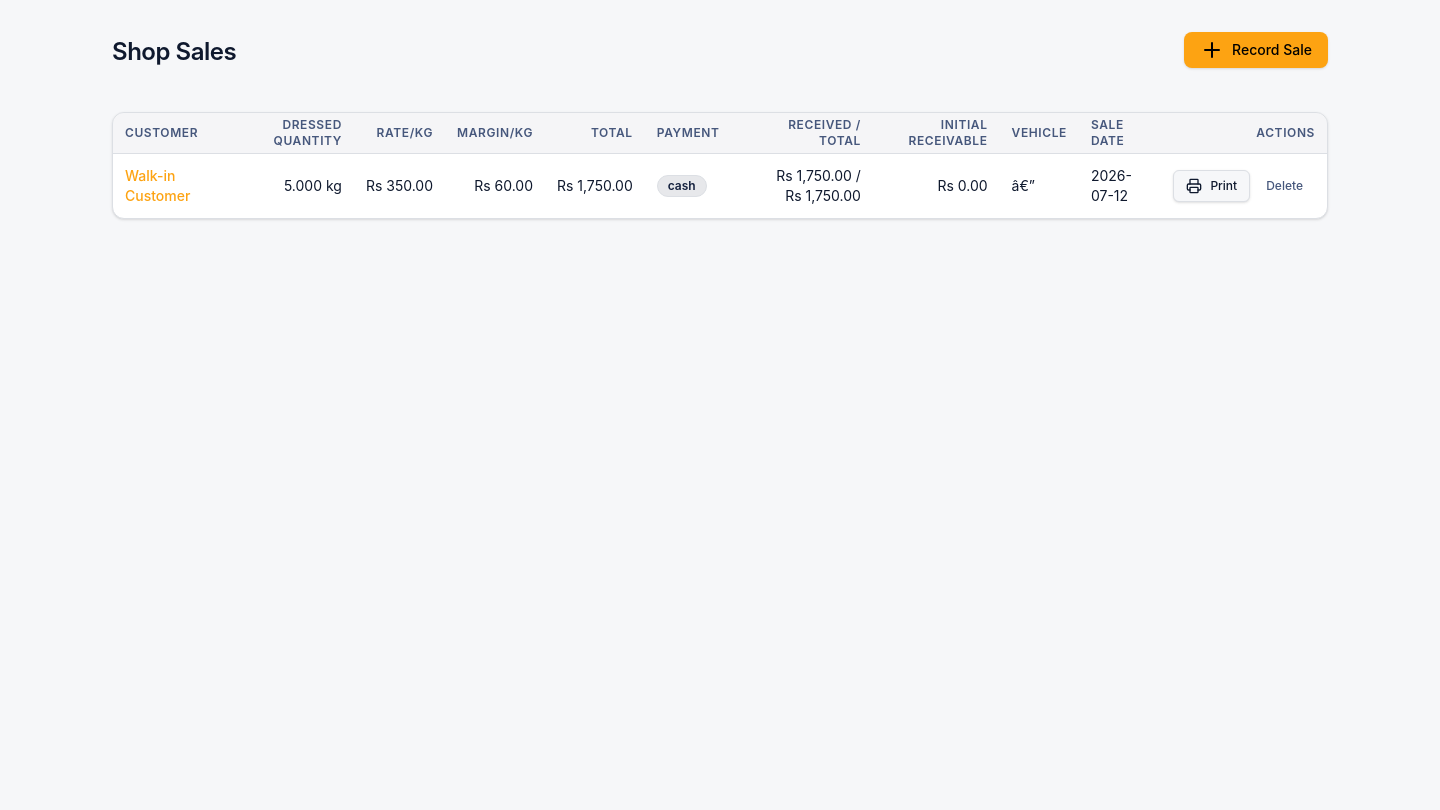
ShopSalesPage › shows insufficient-stock error when dressed quantity exceeds available
Click the button "Record Sale": coordinates (1256, 50) [1184,32,1328,68]
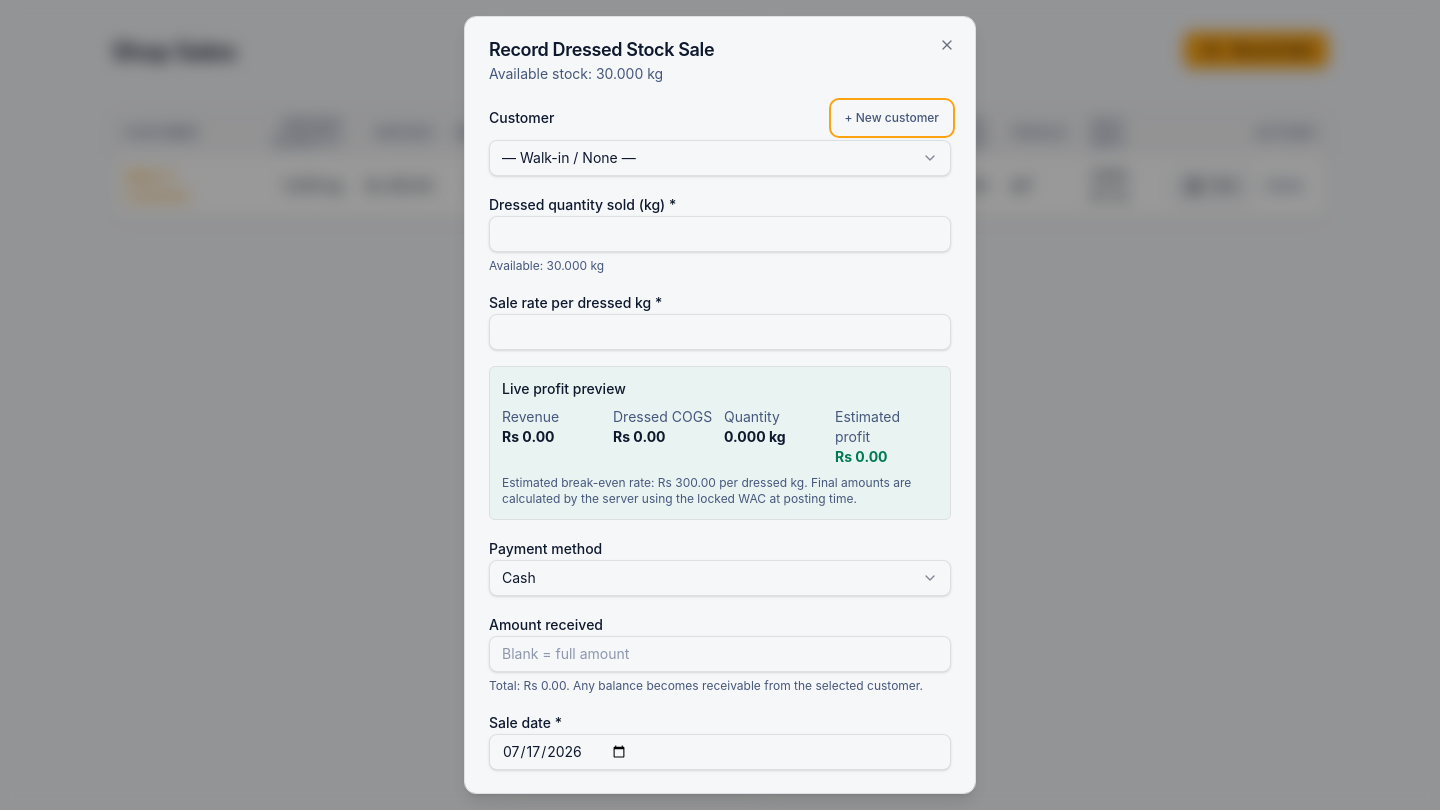
In the number field labelled "Dressed quantity sold (kg) *": coordinates (720, 234) [489,216,951,252], type "999"
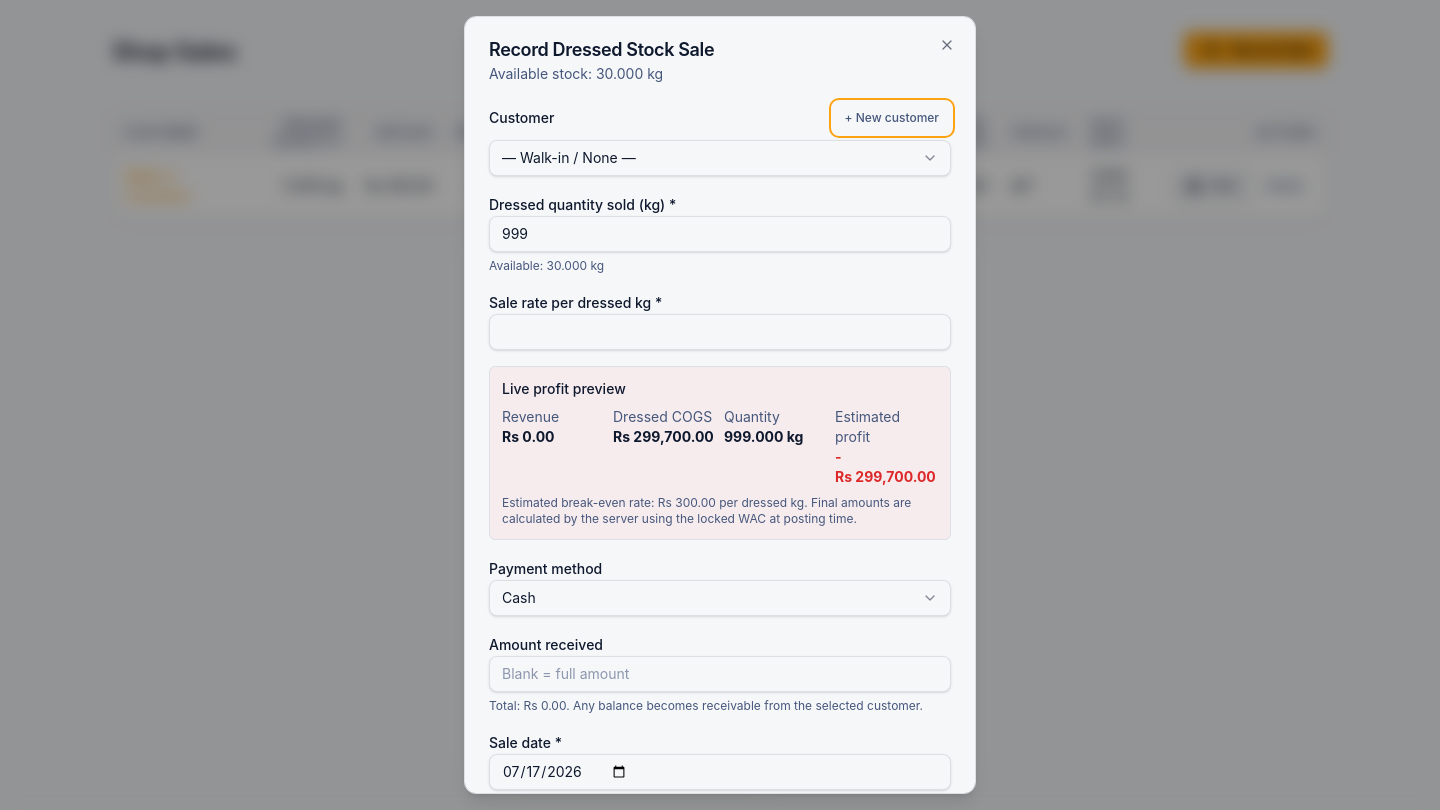
In the number field labelled "Sale rate per dressed kg *": coordinates (720, 332) [489,314,951,350], type "300"
(page scrolled)
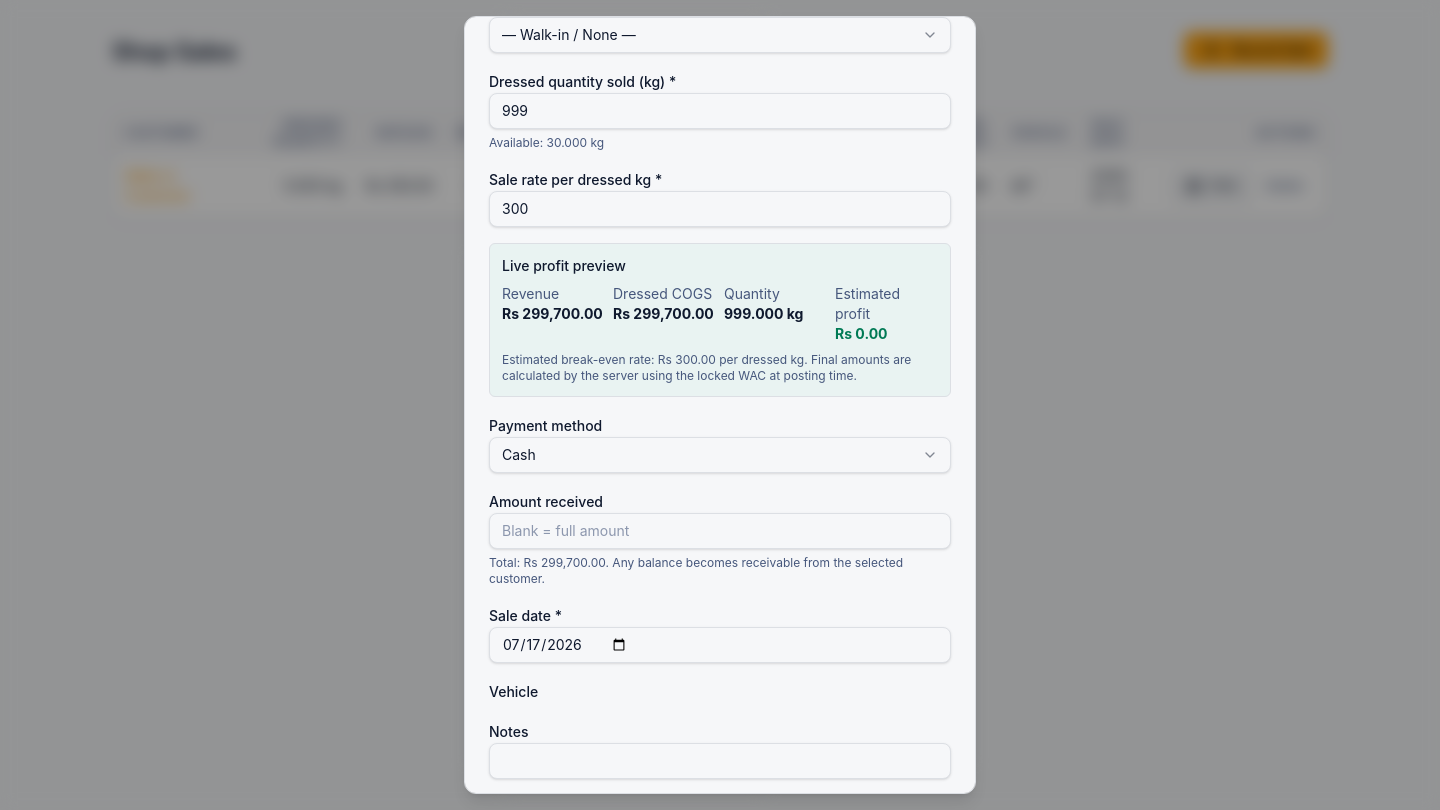
Submit the form labelled "Dressed quantity"
(page scrolled)
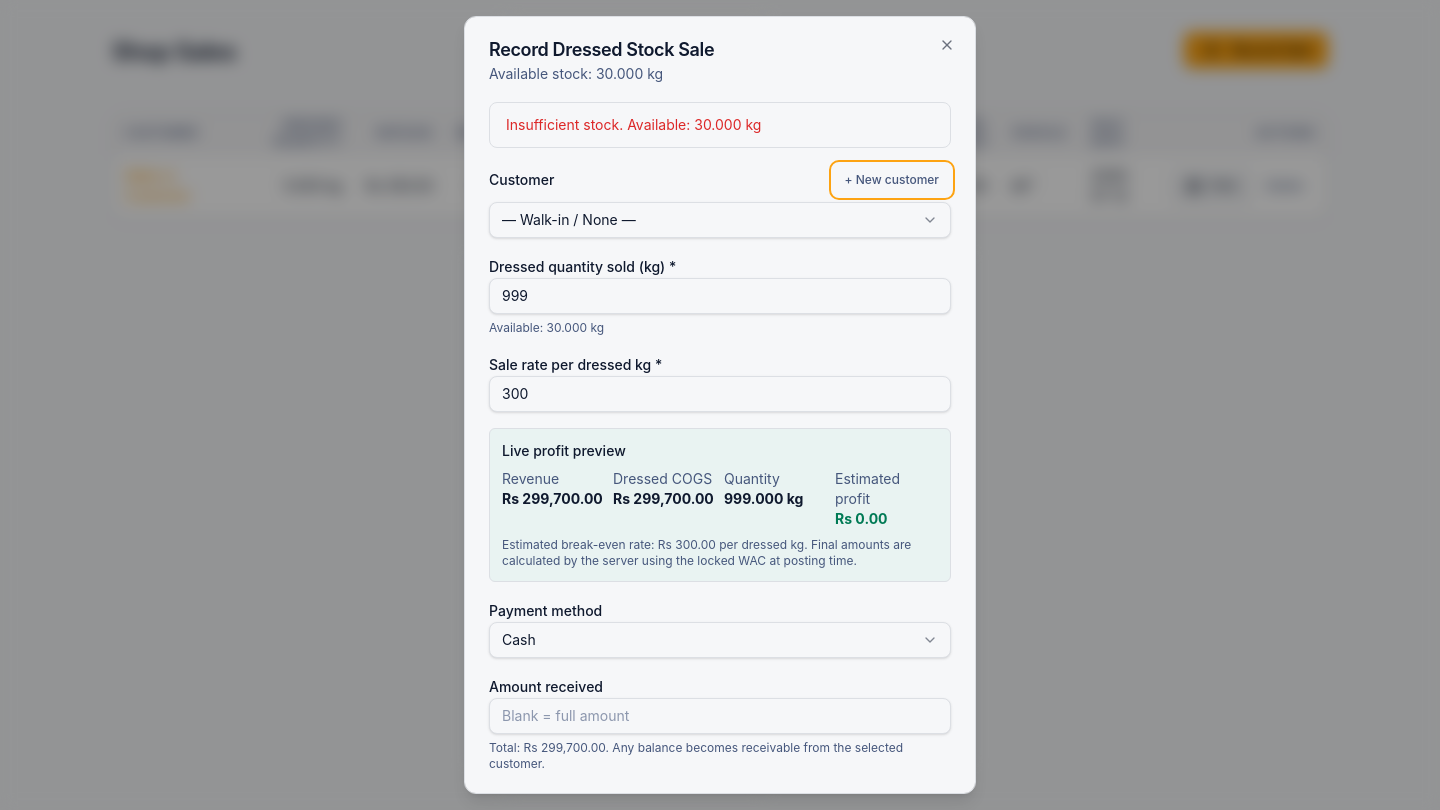
expect the text "Insufficient stock. Available: 30.000 kg" is shown: met, box [506,116,761,133]
